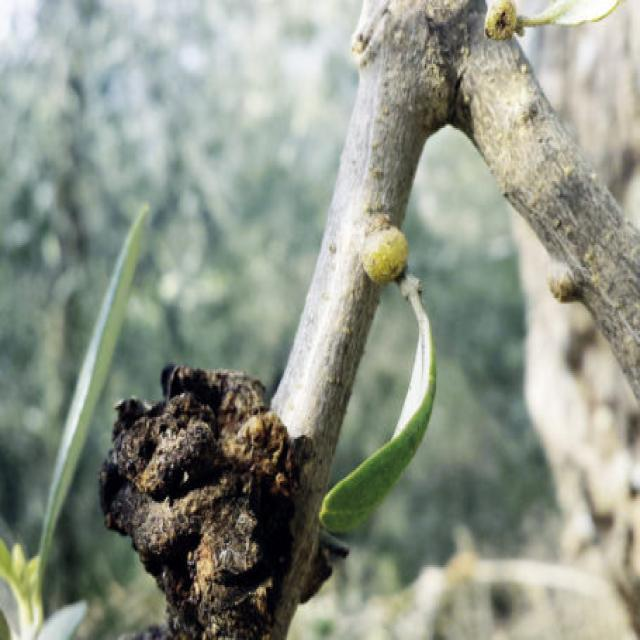Tuberculosis: (99, 366, 304, 634)
